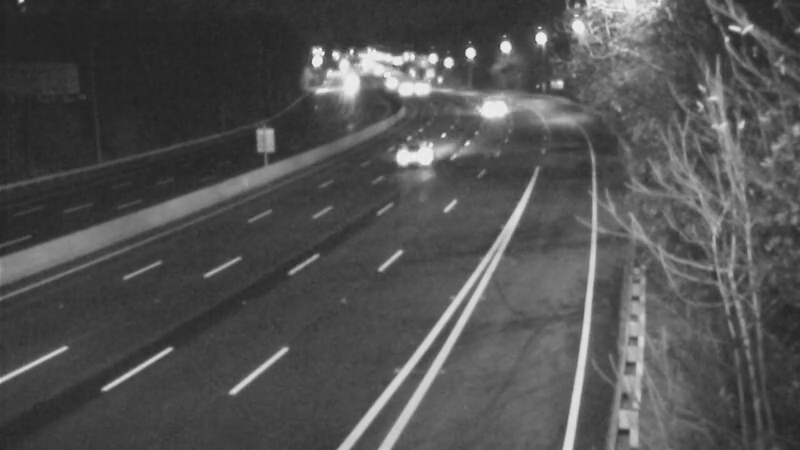vehicle: (381, 111, 461, 191), (397, 64, 447, 114), (367, 59, 417, 109), (376, 62, 426, 112), (469, 84, 519, 134), (322, 61, 372, 111)
